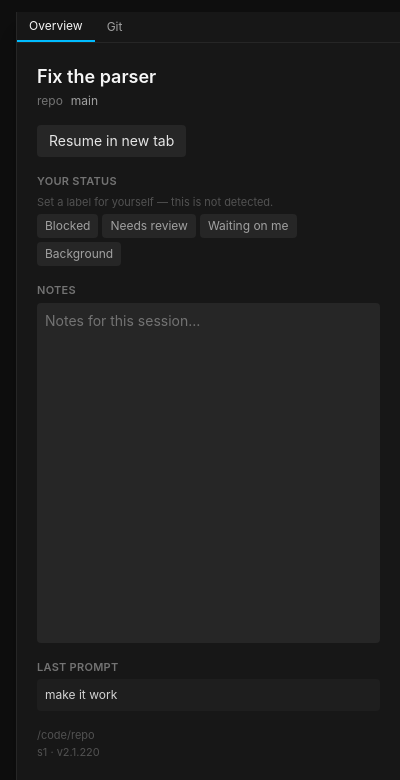
Test case: DetailSlideOver › wires isLive from an idle session as false into the Git tab's Remove button
Step 1. Click the button "Git" → {"x": 114, "y": 27}, box [95,12,134,42]
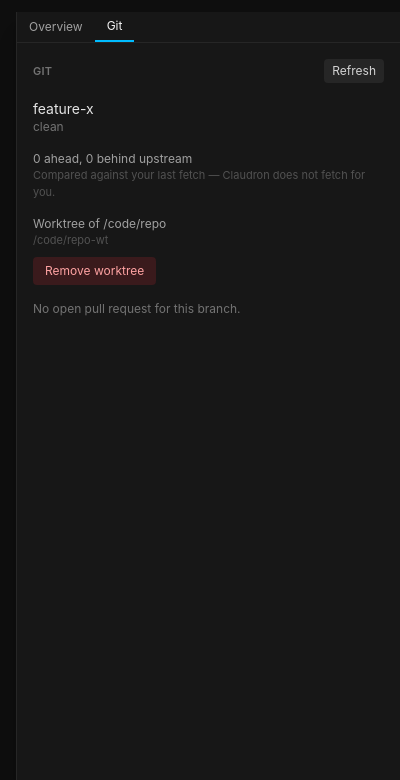
expect the button "Remove worktree" is enabled: met, box [33,256,156,284]
